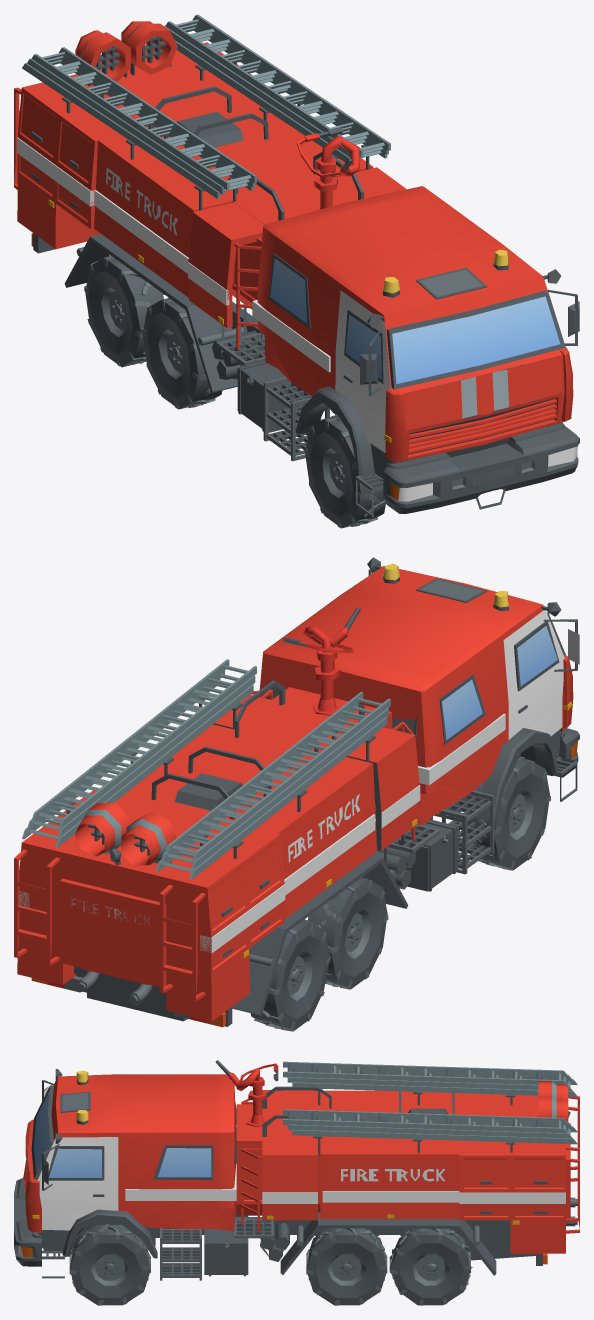
Rendered from Fire_Truck.fbx.
3 views of the same model, one above another, from view 1: azimuth 30°, elevation 25°; view 2: azimuth 150°, elevation 25°; view 3: azimuth 270°, elevation 25° (orthographic). The views are drawn at different scales.
Parts seen in each view (by area): view 1: Fire_truck_Body, Fire_truck_Wheel, Fire_truck_Wheel2, Fire_truck_Wheel1; view 2: Fire_truck_Body, Fire_truck_Wheel1, Fire_truck_Wheel, Fire_truck_Wheel2; view 3: Fire_truck_Body, Fire_truck_Wheel2, Fire_truck_Wheel1, Fire_truck_Wheel.
Boxes of the visible parts, <box> form: Fire_truck_Body: <box>14,14,579,516</box>; Fire_truck_Wheel: <box>84,254,163,367</box>; Fire_truck_Wheel2: <box>304,414,385,528</box>; Fire_truck_Wheel1: <box>141,297,222,409</box>; Fire_truck_Body: <box>14,557,579,1027</box>; Fire_truck_Wheel1: <box>308,877,388,989</box>; Fire_truck_Wheel: <box>250,919,330,1031</box>; Fire_truck_Wheel2: <box>467,756,550,870</box>; Fire_truck_Body: <box>14,1060,579,1280</box>; Fire_truck_Wheel2: <box>69,1224,150,1305</box>; Fire_truck_Wheel1: <box>306,1228,387,1305</box>; Fire_truck_Wheel: <box>389,1228,472,1305</box>.
Bounding box in the file's own units: 0.6218 × 0.7861 × 1.91.
